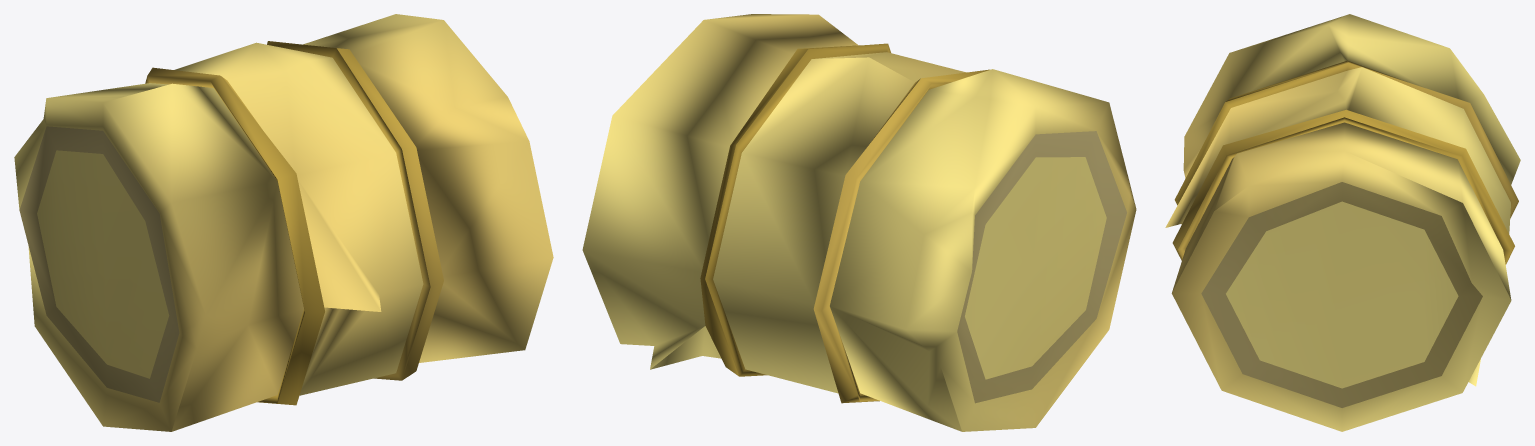
The model's file is Haybale.fbx.
3 renders of one model, left to right at view 1: azimuth 30°, elevation 25°; view 2: azimuth 150°, elevation 25°; view 3: azimuth 270°, elevation 25°, orthographic. The views are drawn at different scales.
Visible parts, largest first — view 1: Haybale; view 2: Haybale; view 3: Haybale.
Part boxes in pixels (bbox=[...]): Haybale: bbox=[14, 14, 553, 431]; Haybale: bbox=[582, 14, 1136, 431]; Haybale: bbox=[1165, 14, 1520, 431].
Size of the model in its own units: 1.49 by 1.3 by 1.45.
1 material, 1 textured.
